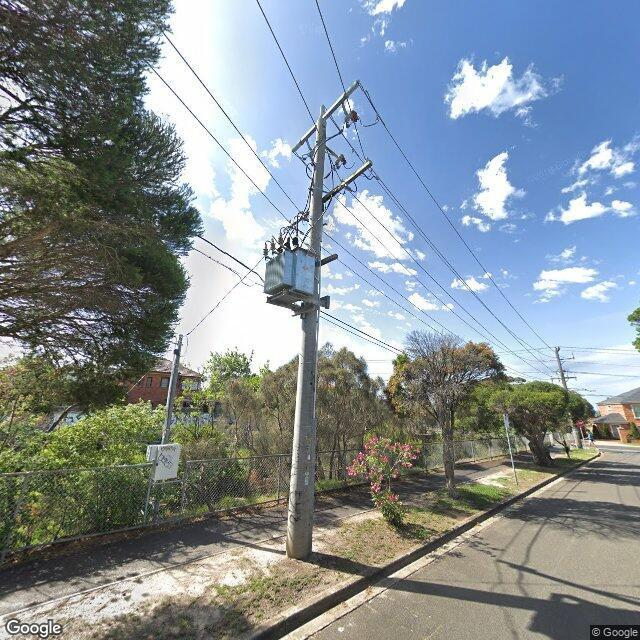HV-transmission: (302, 105, 358, 163)
concrete-pole: (286, 104, 327, 558)
crossarm: (292, 80, 361, 152), (321, 161, 374, 203), (315, 253, 338, 267), (550, 377, 576, 379), (558, 357, 574, 360)
timber-pole: (160, 332, 183, 450), (555, 348, 581, 448)
transformer: (264, 235, 318, 316)
